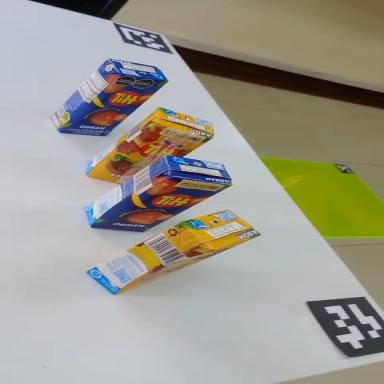HIT-MANGO: (78, 134, 234, 253), (45, 38, 169, 157)
HIT-MORA: (83, 197, 260, 303), (76, 89, 218, 204)
cara_F: (89, 153, 233, 253), (82, 102, 212, 205), (58, 54, 168, 157), (114, 231, 261, 297)
